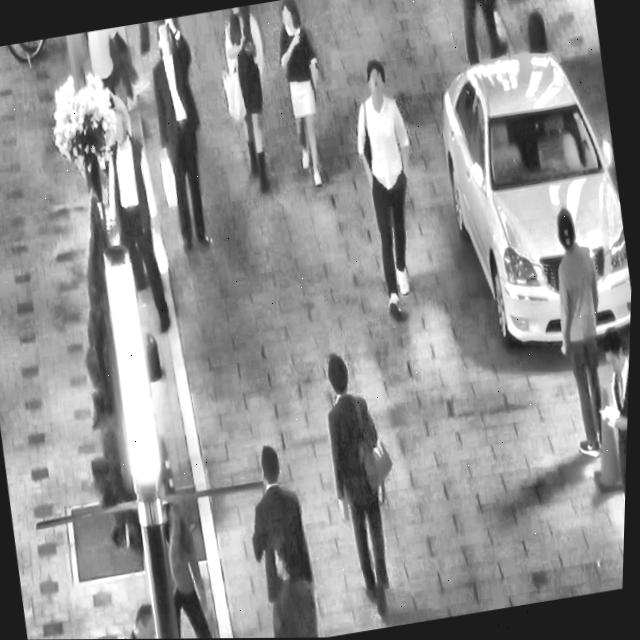light_vehicle: (419, 23, 639, 371)
